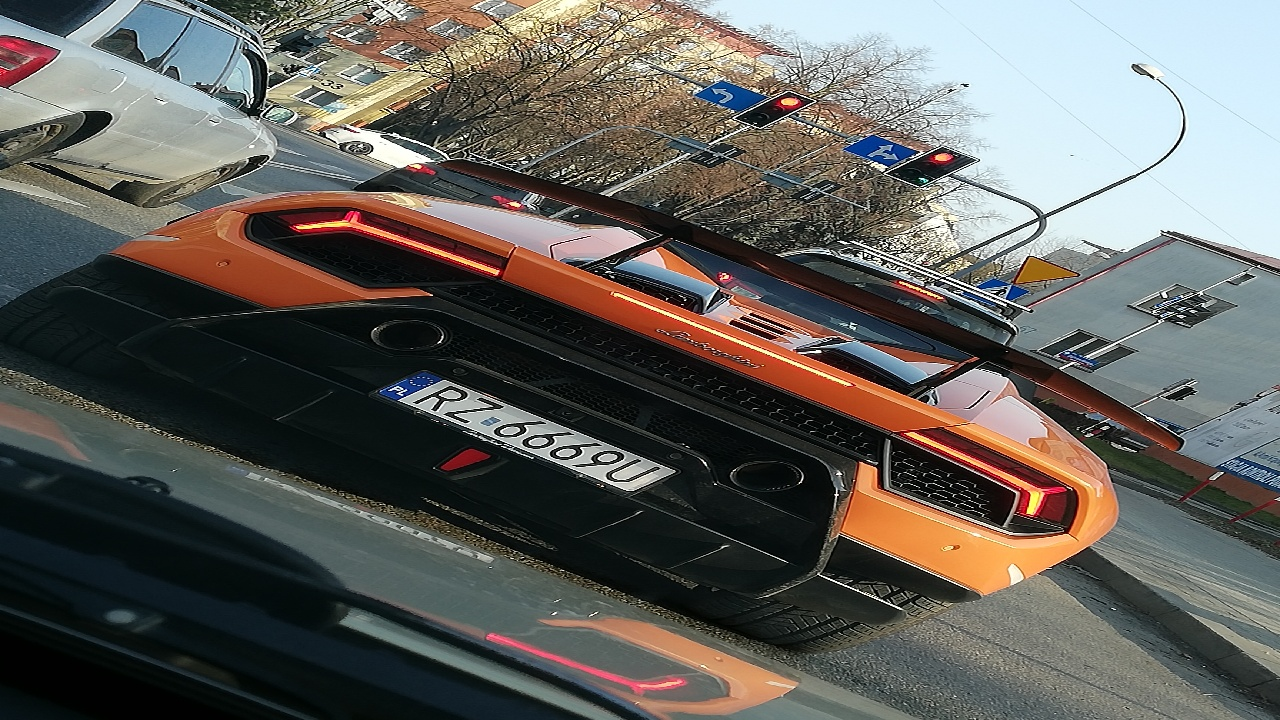A7: (1007, 250, 1087, 287)
